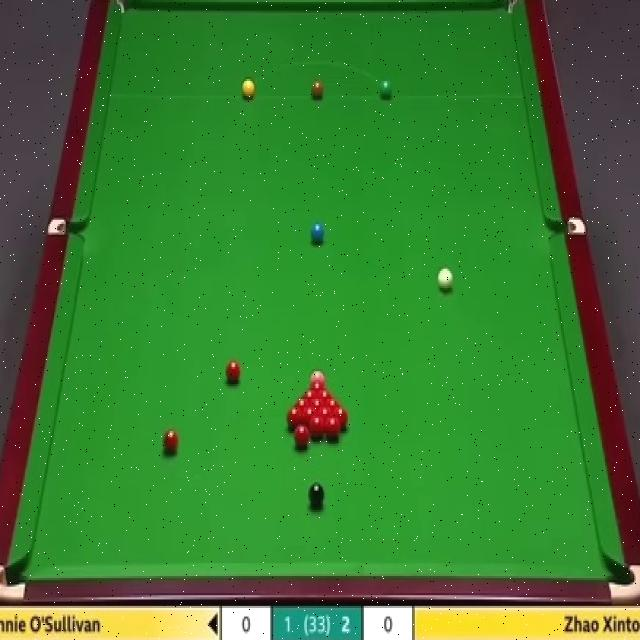black-ball: (308, 481, 325, 509)
blue-ball: (310, 222, 324, 241)
brown-ball: (310, 81, 324, 99)
green-ball: (378, 77, 394, 102)
pink-ball: (310, 370, 326, 388)
red-ball: (162, 429, 180, 456), (286, 405, 304, 431), (325, 415, 341, 443), (293, 423, 310, 445), (316, 407, 334, 427), (227, 359, 240, 386), (332, 406, 349, 426), (310, 415, 325, 437), (324, 396, 341, 412), (294, 396, 311, 411), (310, 396, 325, 412), (304, 408, 315, 428), (303, 388, 318, 402), (317, 387, 331, 402)
white-ball: (437, 266, 455, 296)
yellow-ball: (240, 78, 256, 100)
